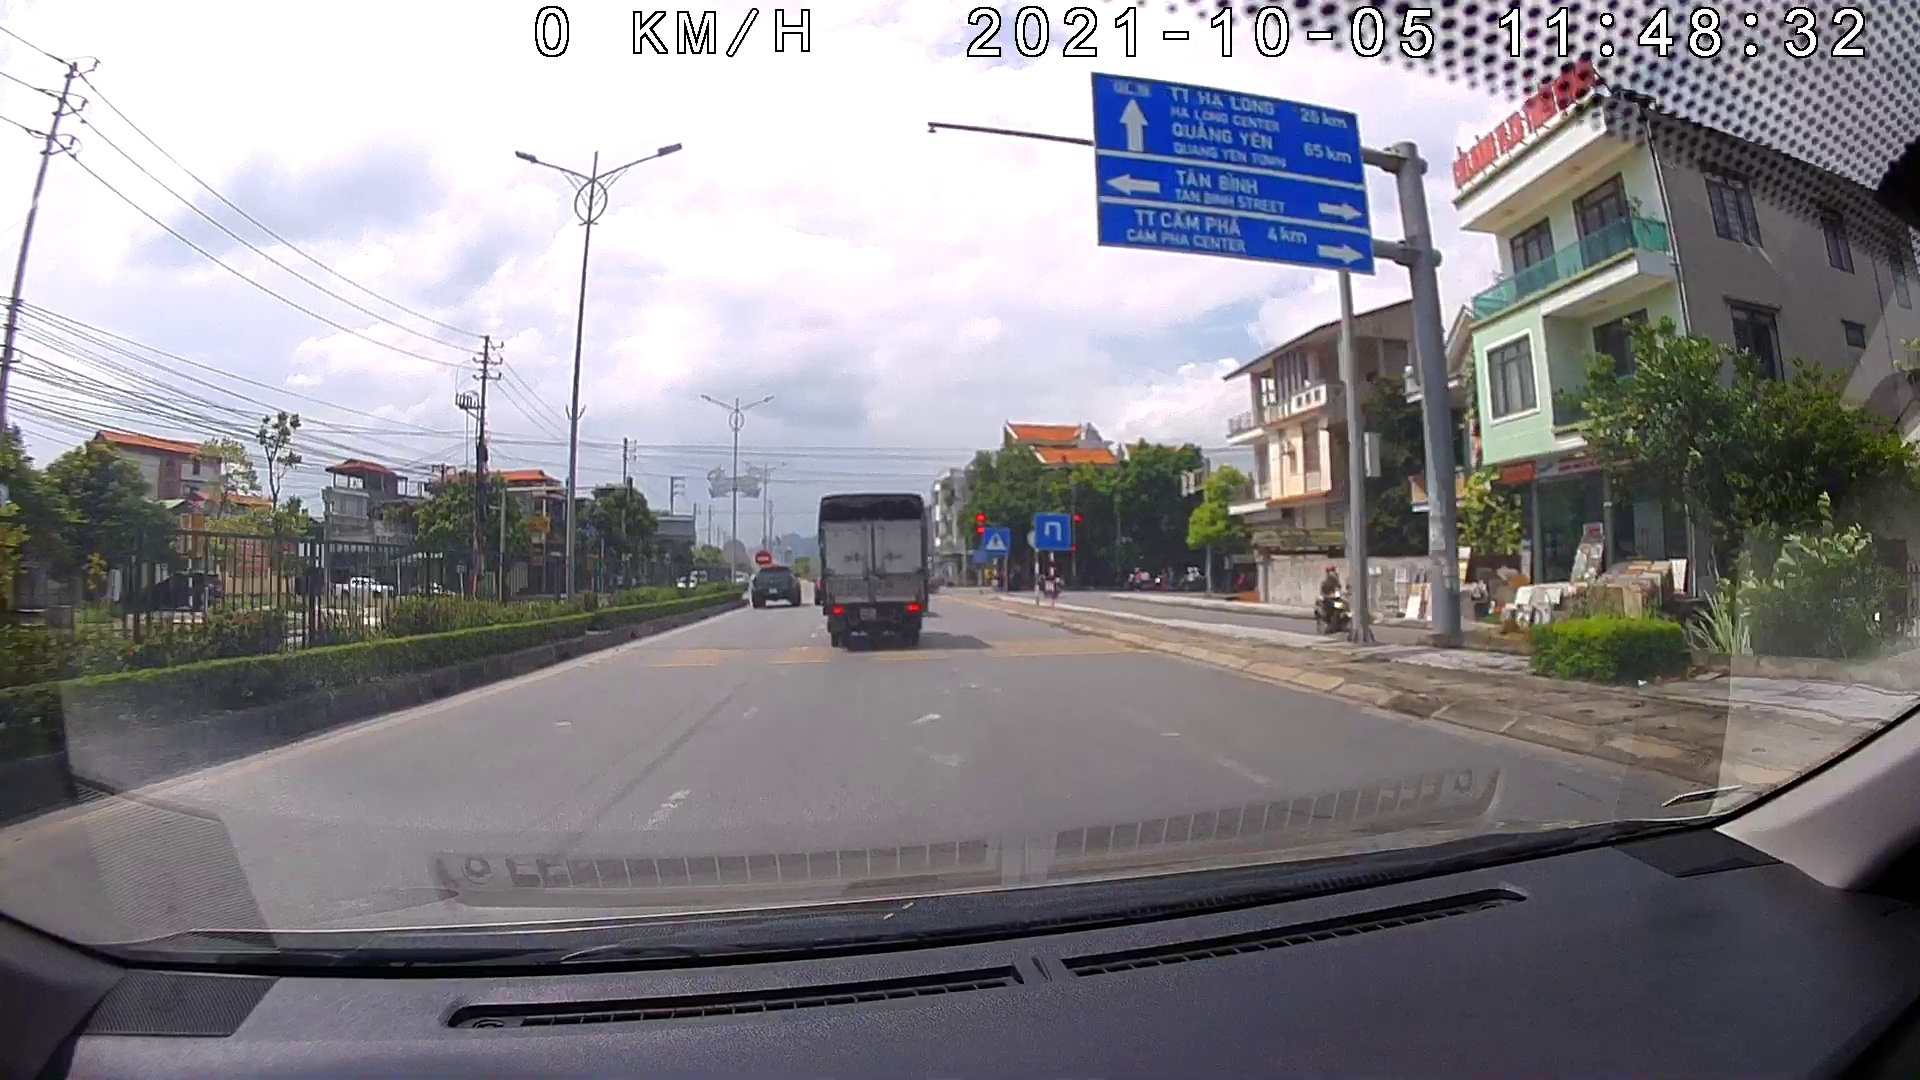Bien khac: (1030, 509, 1073, 555)
Cam di nguoc chieu: (752, 545, 771, 564)
Nguoi di bo: (981, 525, 1011, 556)
